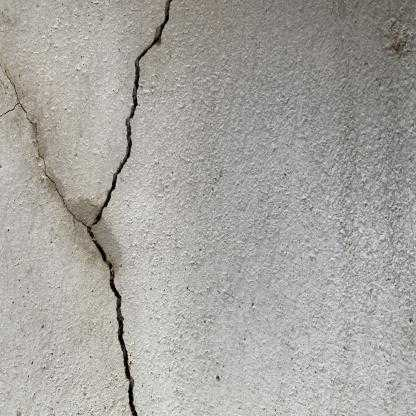crack: (0, 0, 173, 415)
